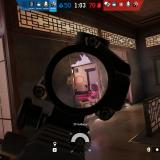Character: (87, 82, 100, 106)
